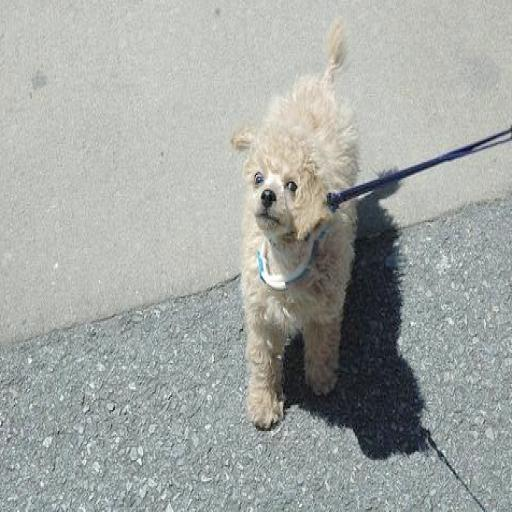dog_face: (230, 124, 341, 242)
